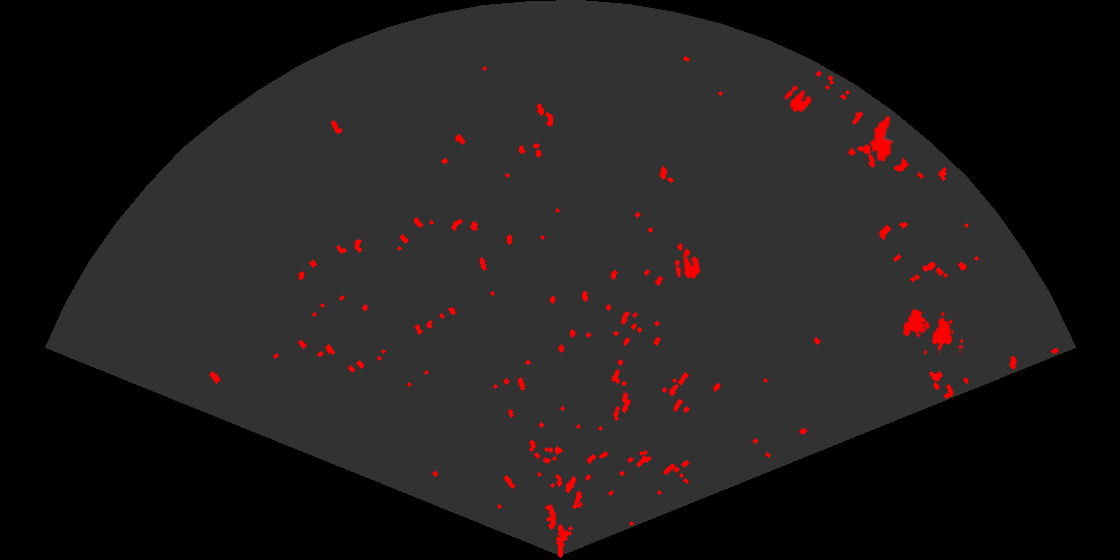AUV: (868, 114, 895, 164)
ball: (783, 84, 813, 114), (673, 254, 702, 280)
cage: (901, 307, 963, 354)
